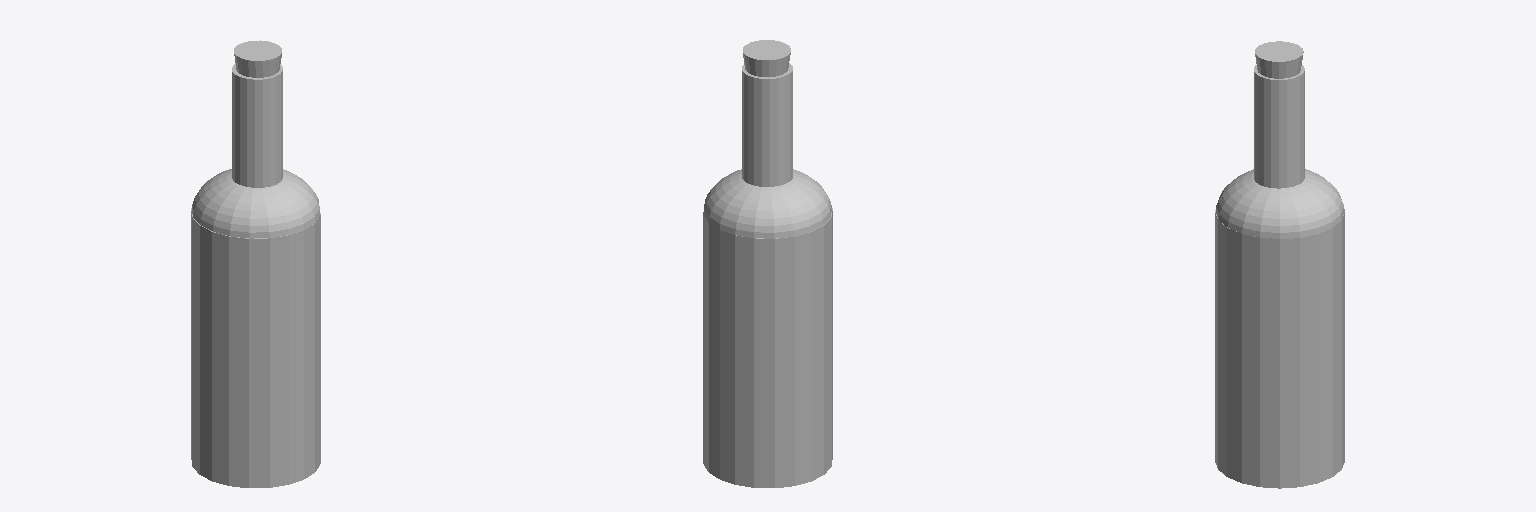
File: winebottle_5.obj
3 renders of one model, left to right at view 1: azimuth 30°, elevation 25°; view 2: azimuth 150°, elevation 25°; view 3: azimuth 270°, elevation 25°, orthographic.
Visible parts, largest first — view 1: winebottle:polySurface1; view 2: winebottle:polySurface1; view 3: winebottle:polySurface1.
Boxes of the visible parts, x1,y1,x2,y2 form: winebottle:polySurface1: [191, 40, 320, 487]; winebottle:polySurface1: [703, 40, 832, 487]; winebottle:polySurface1: [1215, 41, 1344, 488].
Bounding box in the file's own units: 0.8641 × 3 × 0.8638.